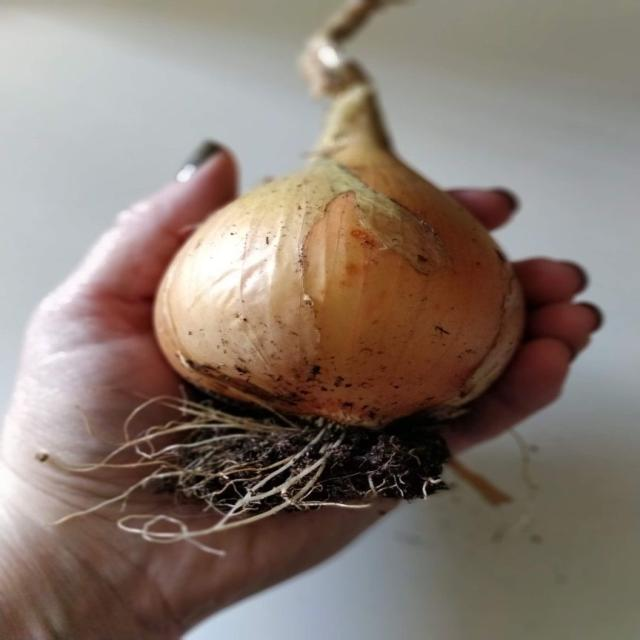sprouting: (59, 1, 585, 640)
